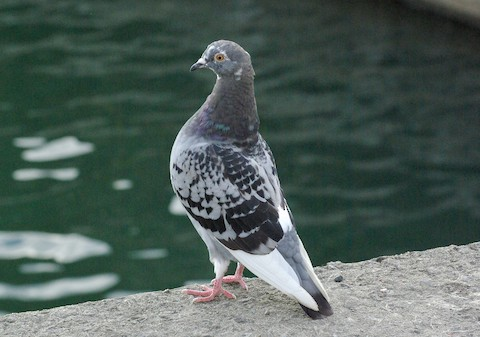pigeon: (168, 35, 336, 323)
